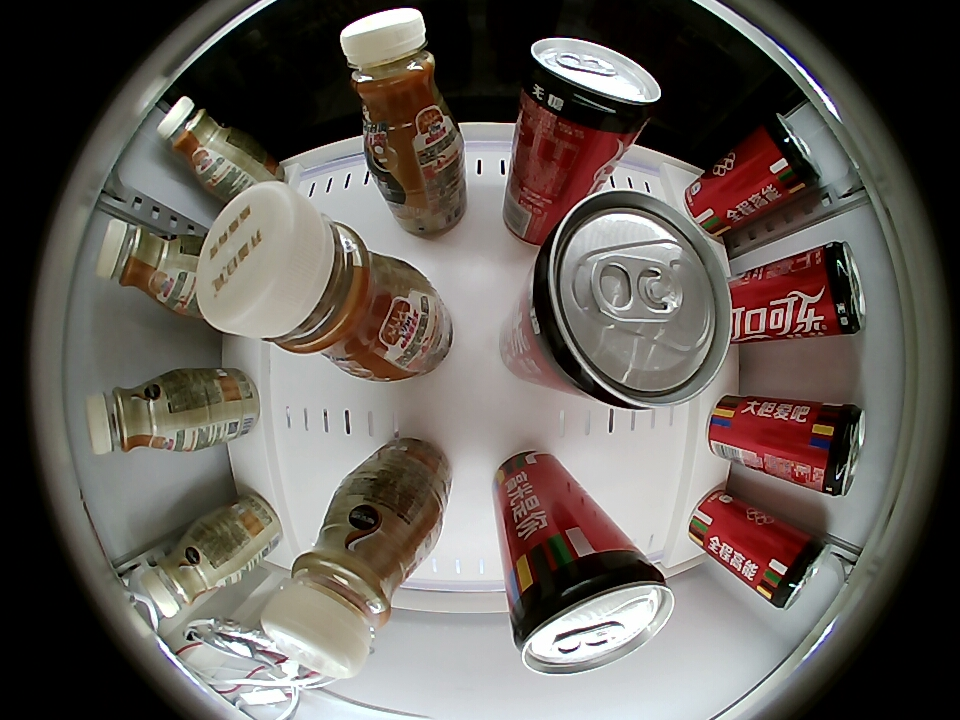kafei: (195, 182, 421, 378), (262, 507, 417, 680), (341, 8, 462, 155), (96, 218, 201, 314), (85, 373, 186, 456), (156, 96, 246, 180), (141, 533, 224, 619)
lingdukele: (527, 189, 733, 412), (514, 551, 675, 676), (522, 38, 661, 139), (799, 240, 865, 337), (797, 403, 865, 497), (750, 112, 820, 202), (756, 529, 826, 611)
